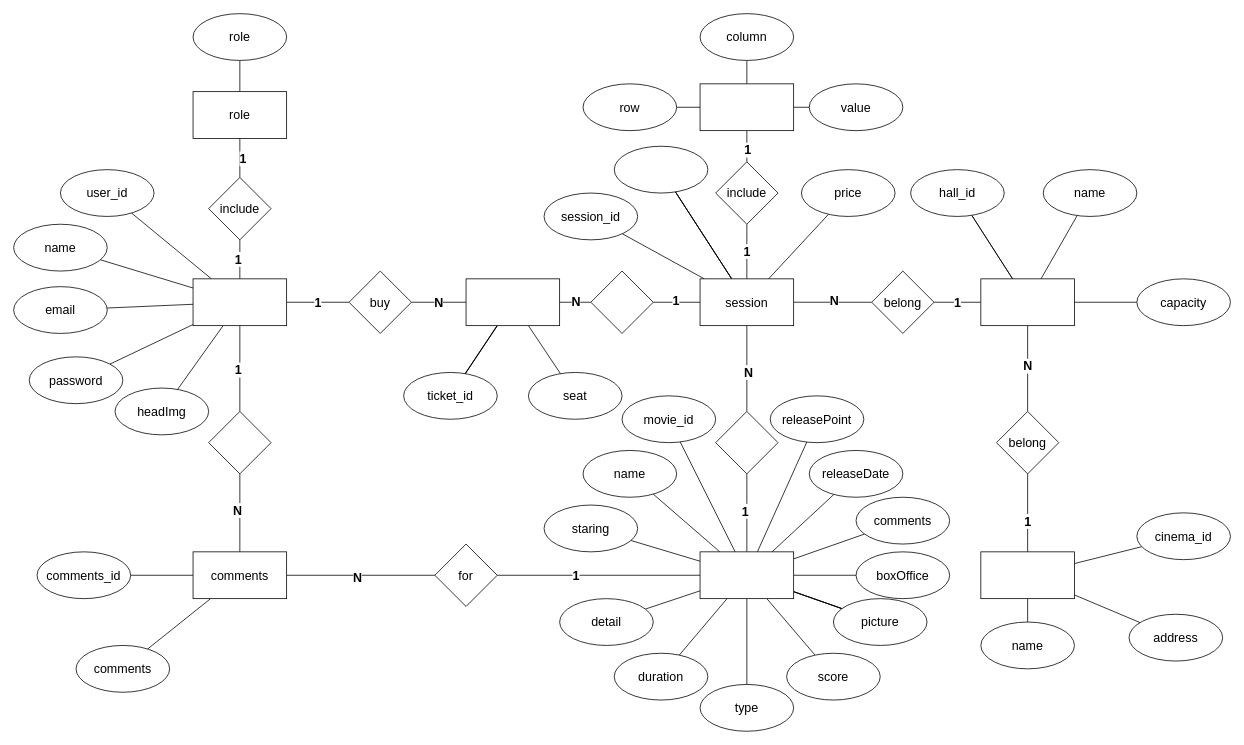
This 1244x745 diagram has some shape labels left out. The centre of each missing label's shape, as x and y in pixels:
"about" goes at (621,301).
"cinema" goes at (1027,575).
"date" goes at (660,169).
"hall" goes at (1027,302).
"leave" goes at (239,442).
"movie" goes at (746,575).
"remaining seat matrix" goes at (746,107).
"show" goes at (746,442).
"ticket" goes at (512,302).
"user" goes at (239,302).
